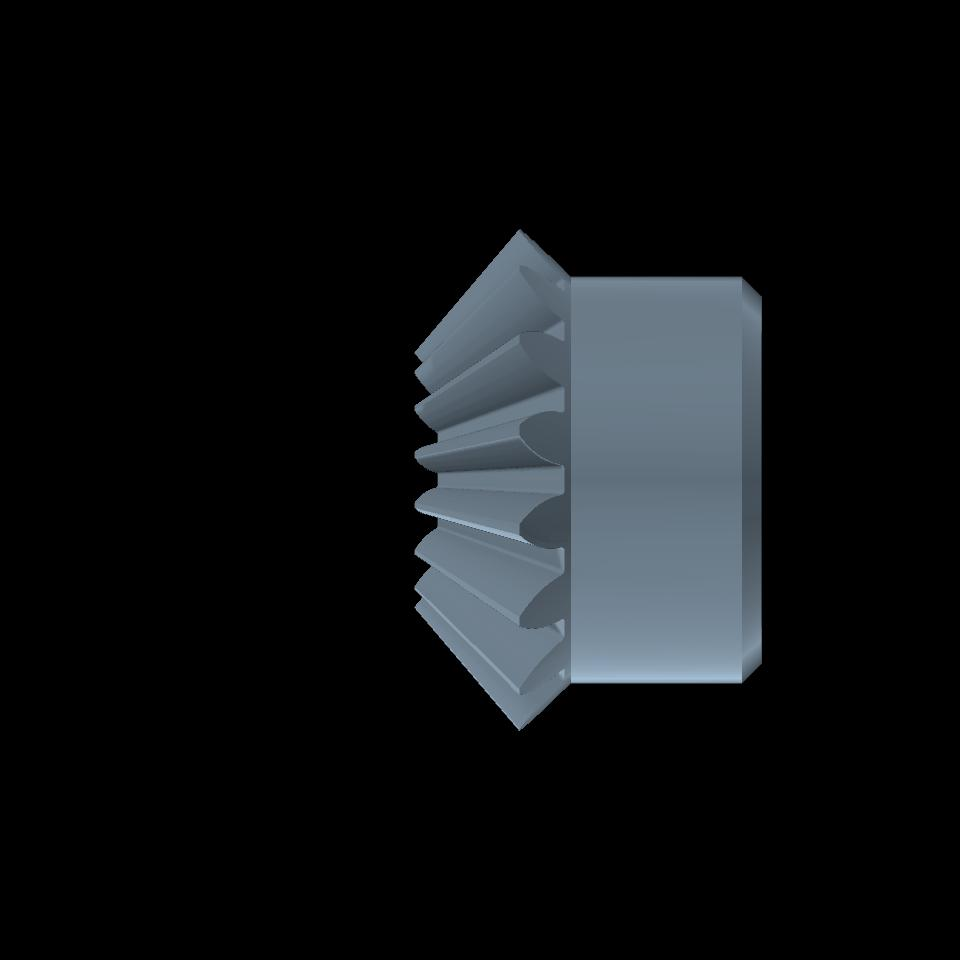Bevel: (413, 231, 570, 733)
